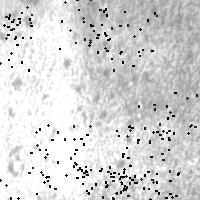pitted_surface: (61, 1, 200, 177), (1, 18, 89, 188), (97, 9, 156, 69), (116, 123, 173, 180), (30, 124, 89, 177), (138, 92, 196, 142), (59, 0, 114, 51), (73, 163, 131, 200), (0, 14, 30, 74), (118, 170, 178, 200), (0, 167, 54, 200), (79, 167, 129, 200), (0, 0, 31, 28)
